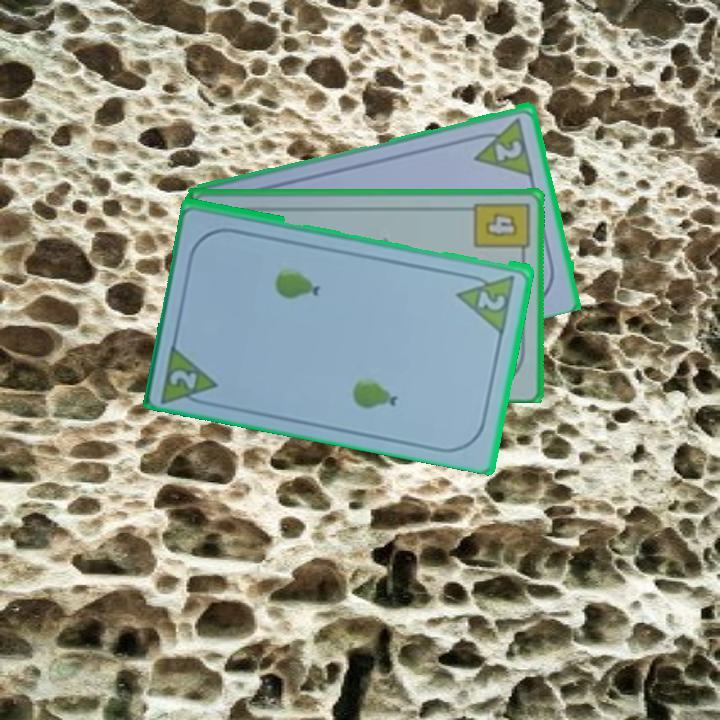2p: (467, 113, 536, 178), (166, 365, 201, 394), (474, 285, 509, 313)
4b: (470, 199, 532, 261)
